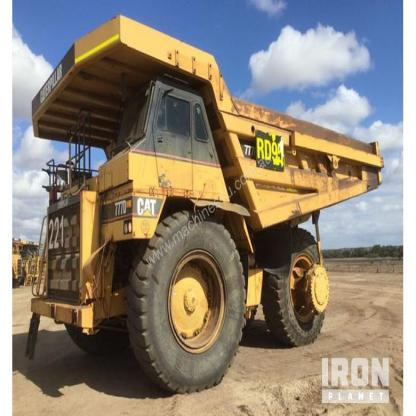dump_truck: (25, 13, 393, 380)
